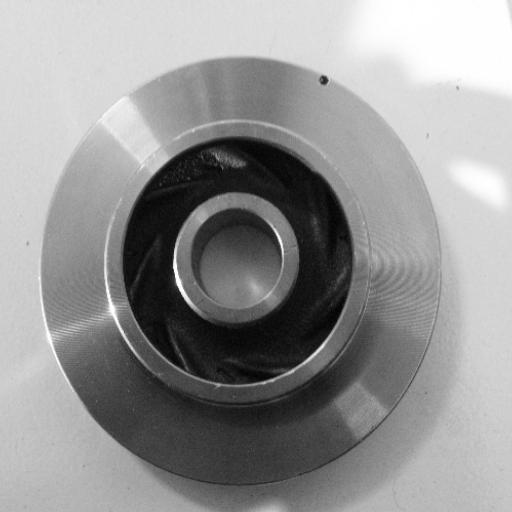pit: (312, 66, 336, 93)
unpolished_casting: (39, 55, 444, 489)
